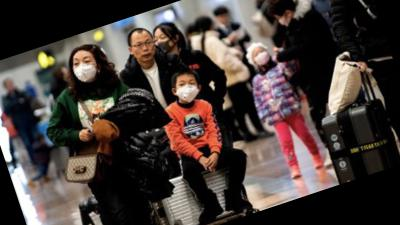with_mask: (68, 50, 102, 87), (172, 74, 201, 106), (152, 29, 176, 57), (252, 45, 273, 68), (275, 9, 295, 30)
without_mask: (130, 34, 158, 65)
